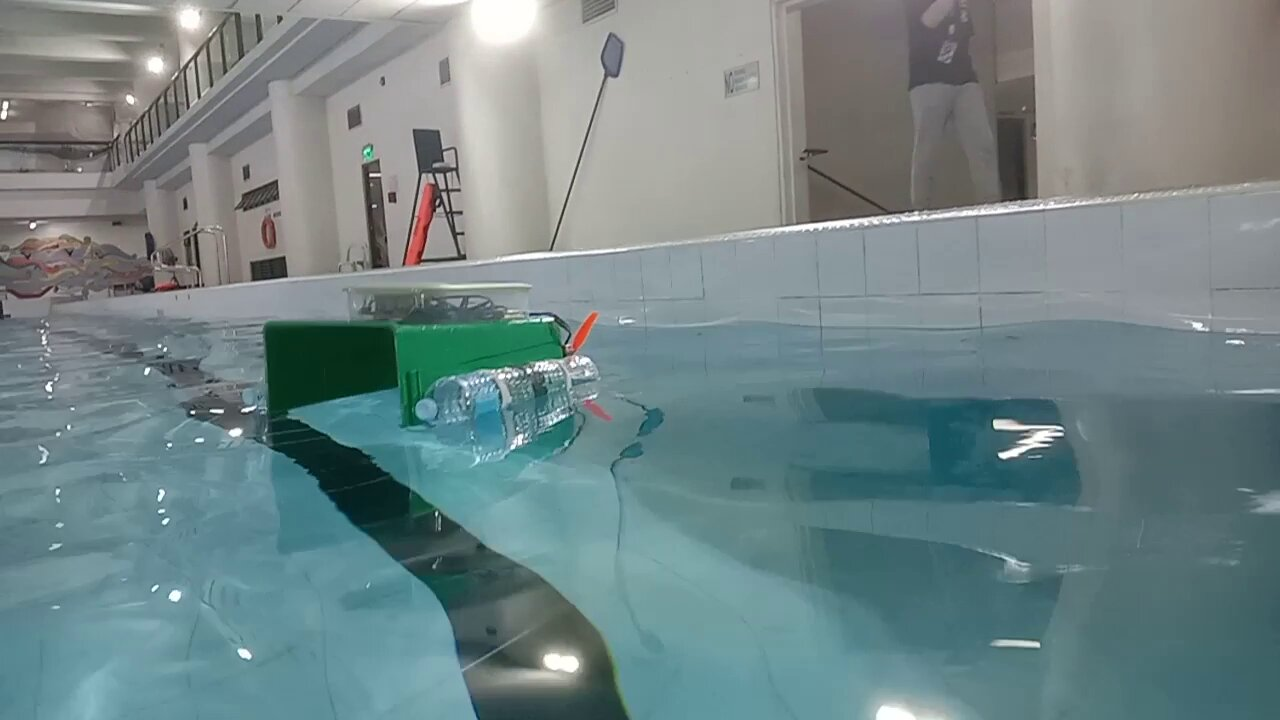drone: (241, 280, 600, 432)
